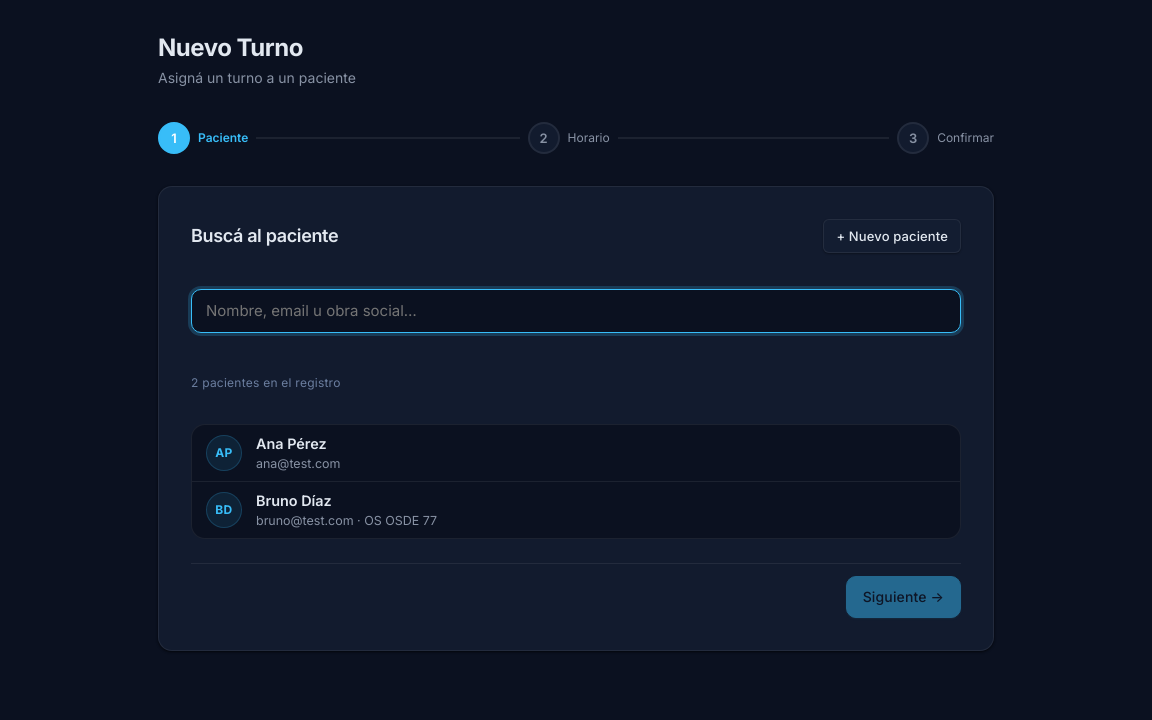
NewAppointmentPage › búsqueda de pacientes existentes › si no encuentra a nadie ofrece registrarlo con el nombre ya cargado
Expected: the text "Ana Pérez" is shown, [256,435,327,452]
Type "Zoe Nueva" into the search field named "buscar paciente" at (576, 311), box [191,289,961,333]
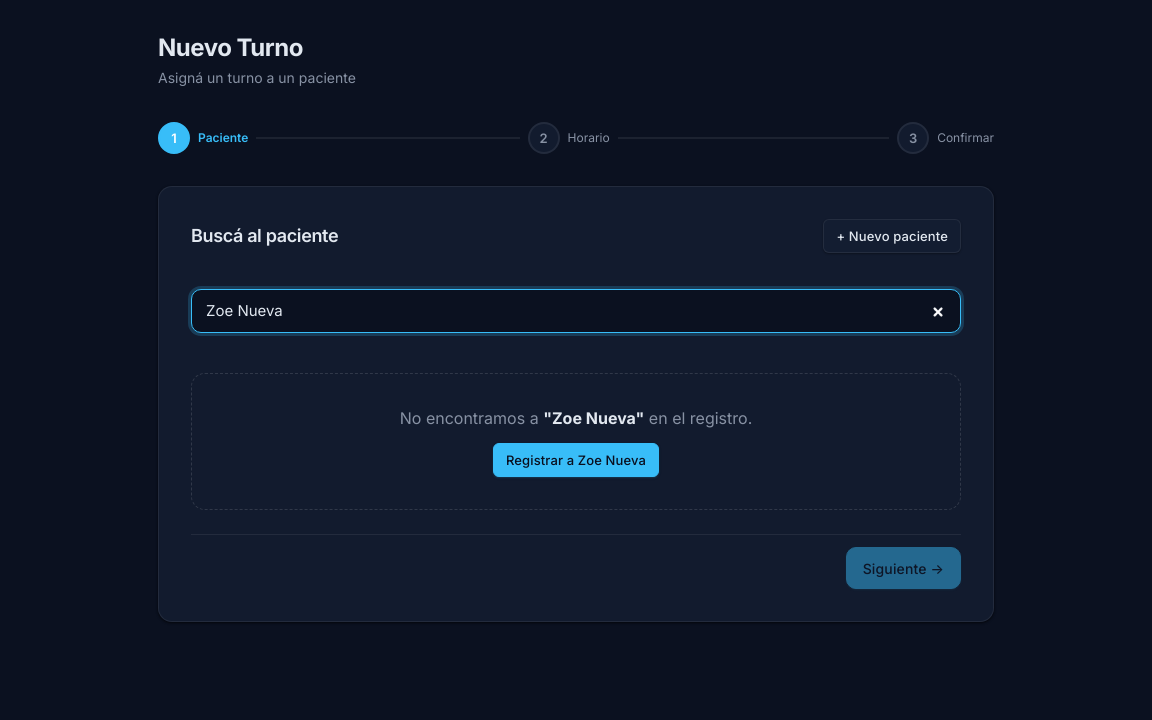
Expected: the text "No encontramos a \"Zoe Nueva\" en el registro." is shown, [400,406,752,431]
Click the button "Registrar a Zoe Nueva" at (576, 460), box [493,443,659,477]
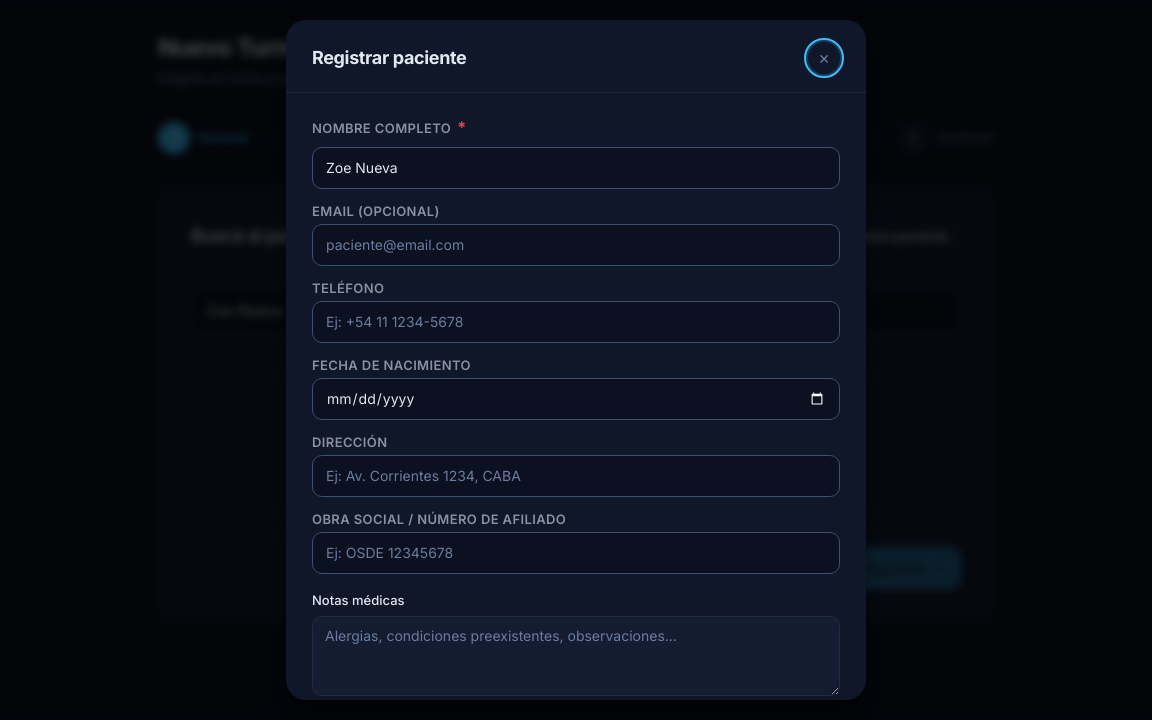
Expected: the field labelled "Nombre completo" holds "Zoe Nueva", [312,147,840,189]
